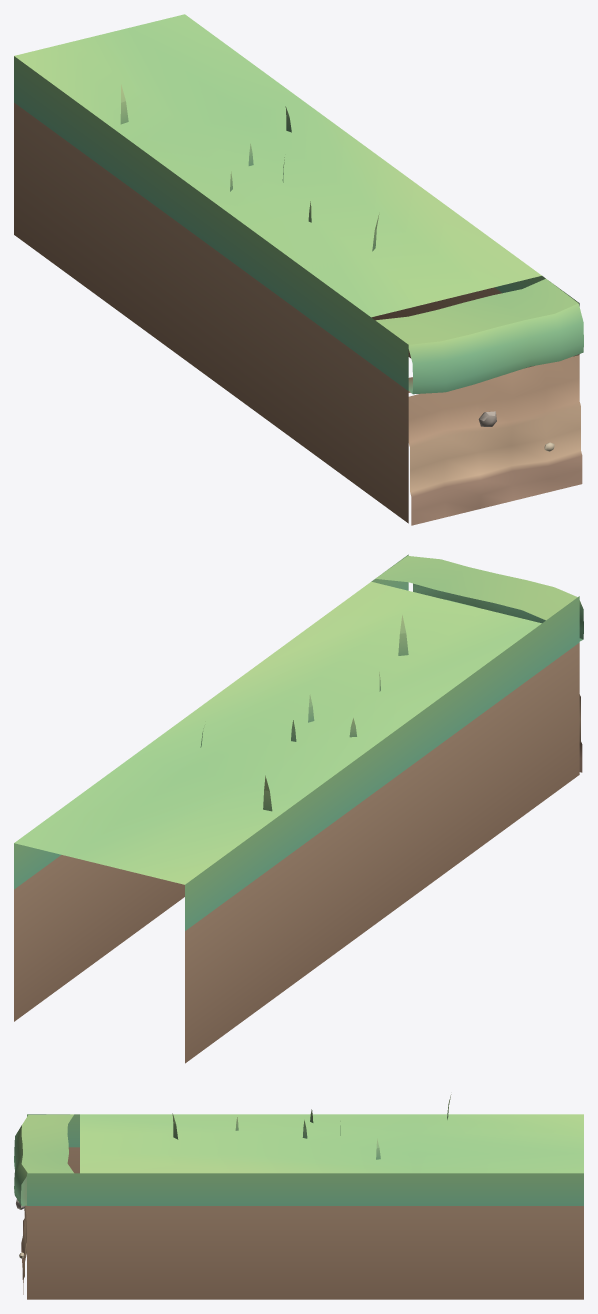
Rendered from groundlite_grass_1.glb.
The picture shows the model from 3 angles, top to bottom: view 1: azimuth 30°, elevation 25°; view 2: azimuth 150°, elevation 25°; view 3: azimuth 270°, elevation 25°; orthographic projection. The views are drawn at different scales.
Visible parts, largest first — view 1: groundlite_grass_1; view 2: groundlite_grass_1; view 3: groundlite_grass_1.
Boxes of the visible parts, box(x1,y1,x2,y2) form: groundlite_grass_1: box(14, 14, 583, 525); groundlite_grass_1: box(14, 554, 583, 1063); groundlite_grass_1: box(14, 1094, 583, 1299).
Bounding box in the file's own units: 1 × 1.22 × 4.09.
